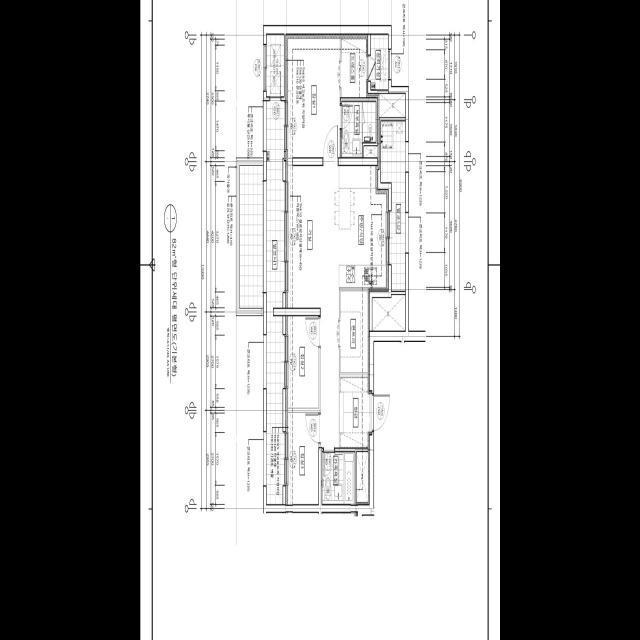background: (140, 0, 500, 640)
space_balconi: (266, 34, 284, 504), (380, 121, 405, 291)
space_bedroom: (286, 34, 339, 158), (285, 316, 318, 408), (286, 413, 318, 505)
space_dressroom: (341, 35, 367, 97)
space_front: (339, 378, 371, 448)
space_kitchen: (339, 166, 388, 291)
space_living_room: (286, 166, 339, 448)
space_other: (340, 291, 369, 372), (372, 295, 405, 331), (356, 452, 369, 505), (377, 94, 405, 117), (364, 146, 379, 158)
space_outdoor_room: (368, 35, 388, 89)
space_toilet: (341, 102, 376, 157), (322, 452, 354, 505)
